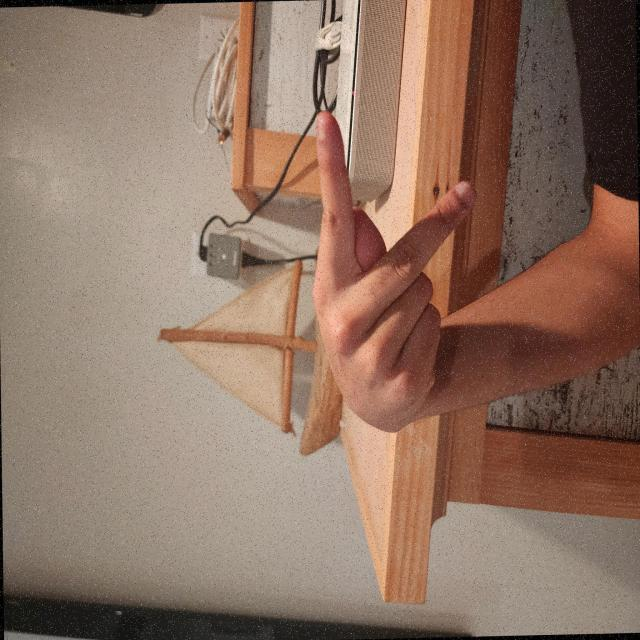P: (153, 412, 404, 640)
